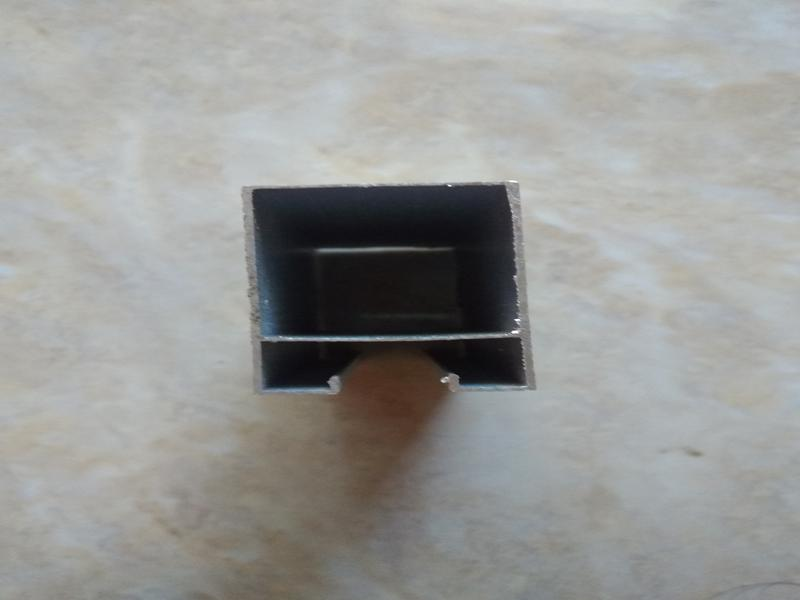Aluminium_1: (226, 174, 565, 408)
